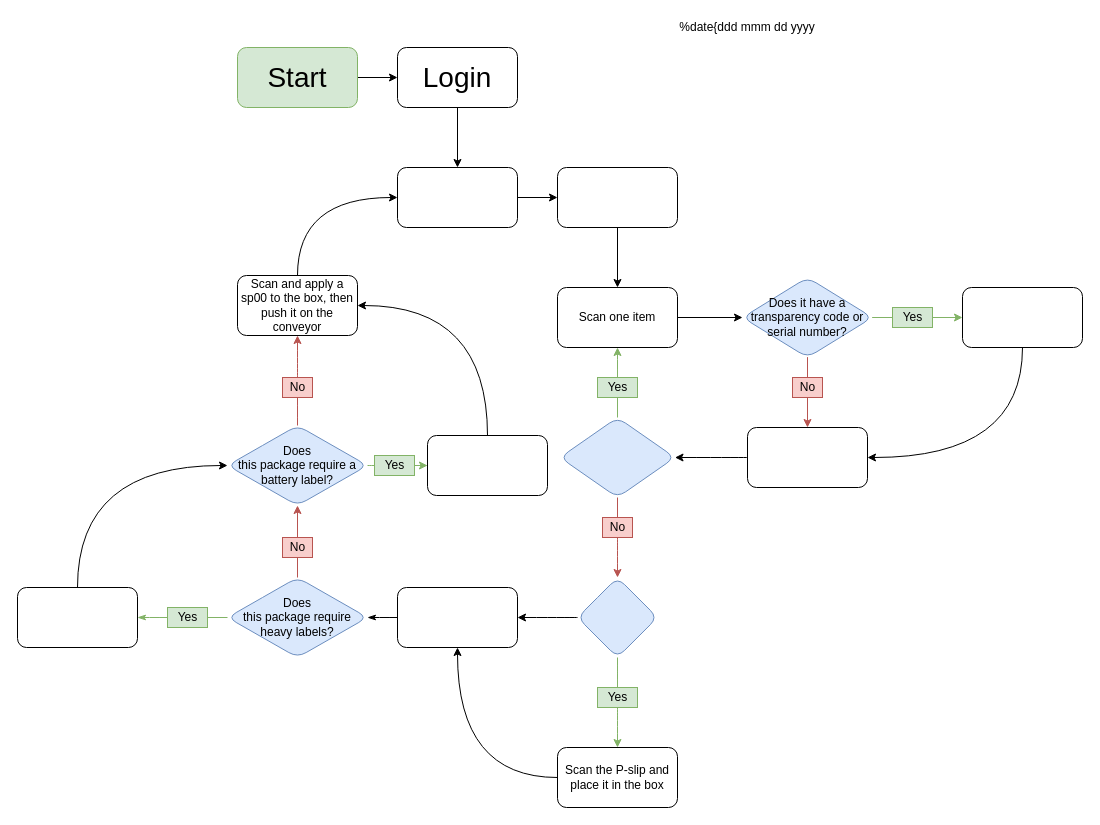
Some shapes in this 1100 by 825 pixel diagram are drawn without their labels. Each missing label, with the box of its shape:
Add dunage if needed and seal the box: (396, 586, 518, 648)
Apply the appropriate battery label and scan it: (426, 434, 548, 496)
Are there more items?: (559, 416, 675, 498)
Grab the items from the chute: (556, 166, 678, 228)
Is there a P-slip?: (576, 576, 658, 658)
Make the box shown on screen: (396, 166, 518, 228)
Place at least 3 heavy labels on just as many sides of the box: (16, 586, 138, 648)
Place that item in the box: (746, 426, 868, 488)
Scan the transparency code or serial number: (962, 286, 1082, 348)
